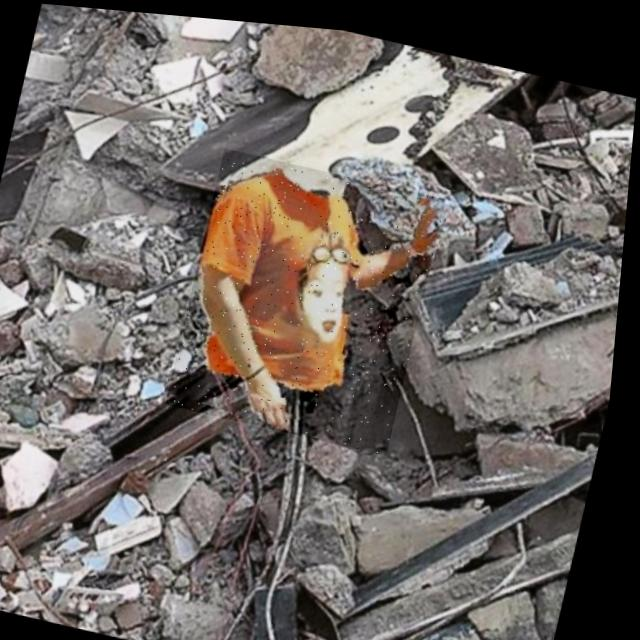Person in Rubble: (170, 141, 451, 451)
